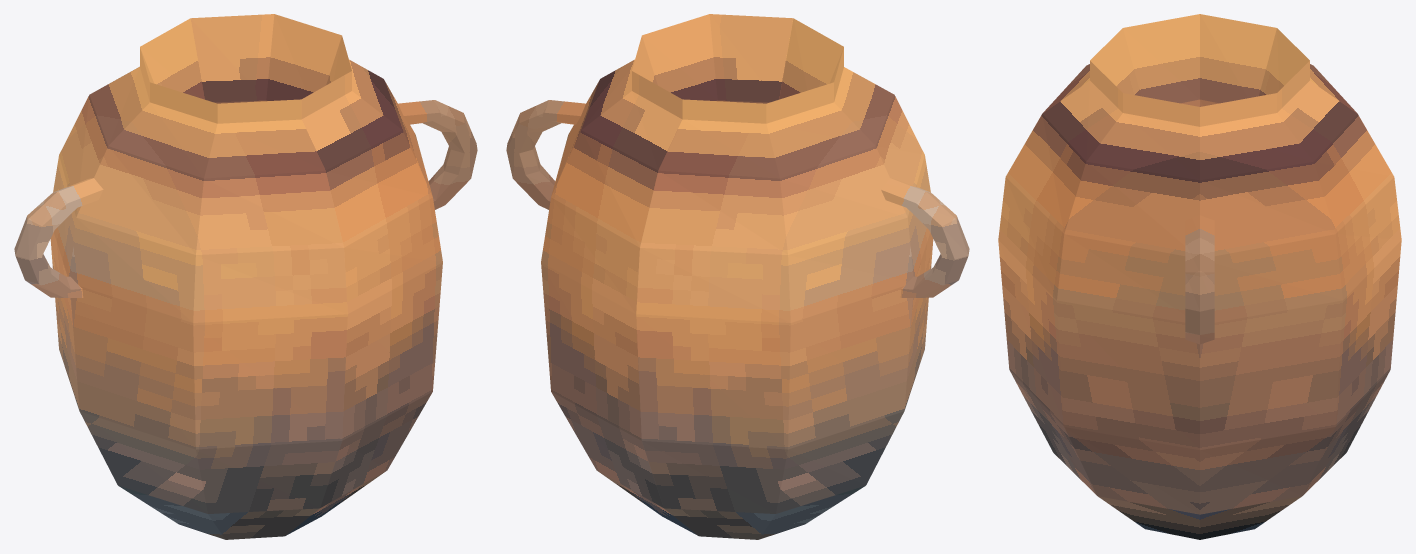
File: otubo5.glb
The picture shows the model from 3 angles, left to right: view 1: azimuth 30°, elevation 25°; view 2: azimuth 150°, elevation 25°; view 3: azimuth 270°, elevation 25°; orthographic projection.
Visible parts, largest first — view 1: otubo5; view 2: otubo5; view 3: otubo5.
Boxes of the visible parts, box(x1,y1,x2,y2) form: otubo5: box(14, 14, 477, 539); otubo5: box(506, 14, 969, 539); otubo5: box(998, 14, 1401, 539).
Size of the model in its own units: 144 by 135 by 110.
1 material, 1 textured.
